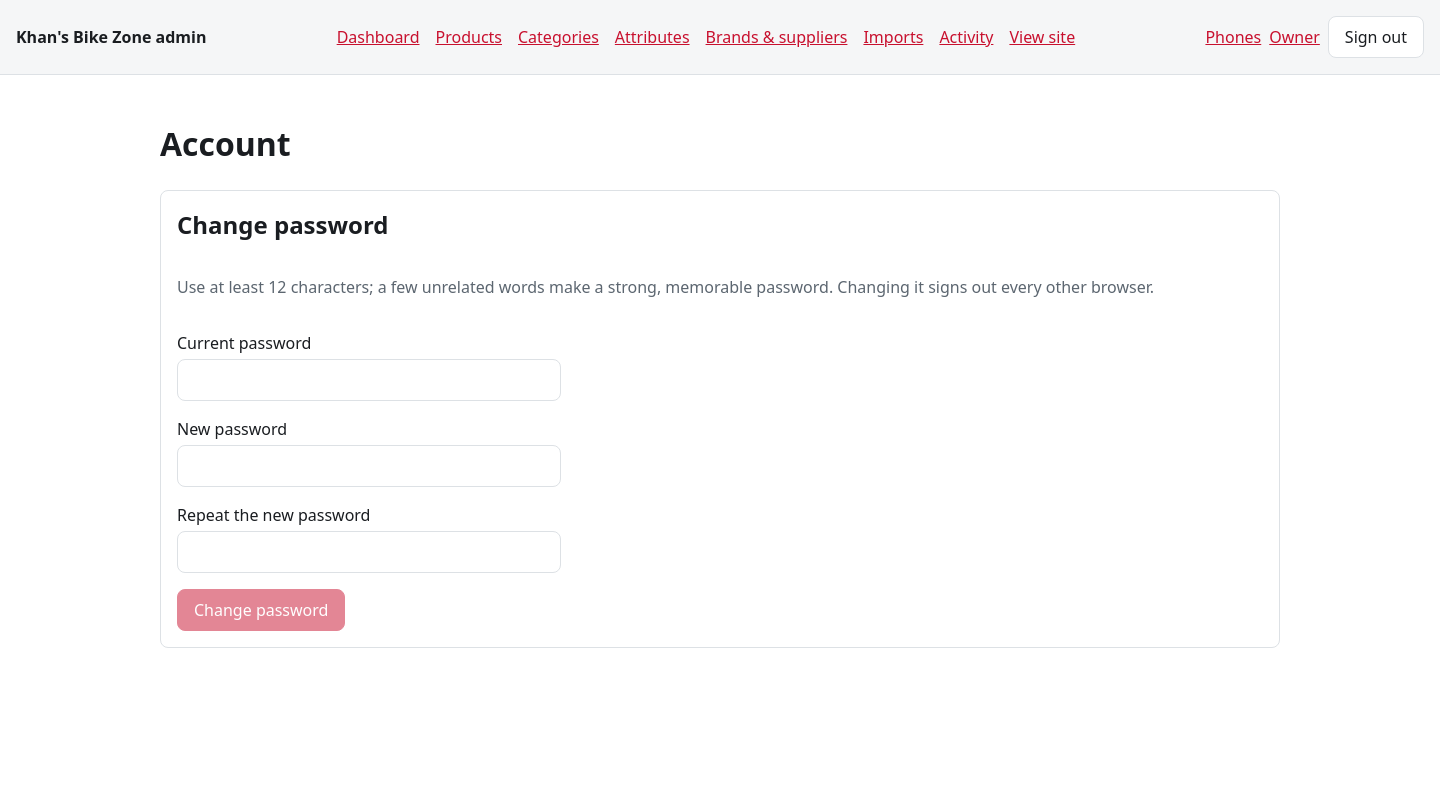
Test: account › shows the server's verdict on the current password
Type "wrong password!" into the password field labelled "Current password". click: (369, 380)
box: 177,359 -> 561,401
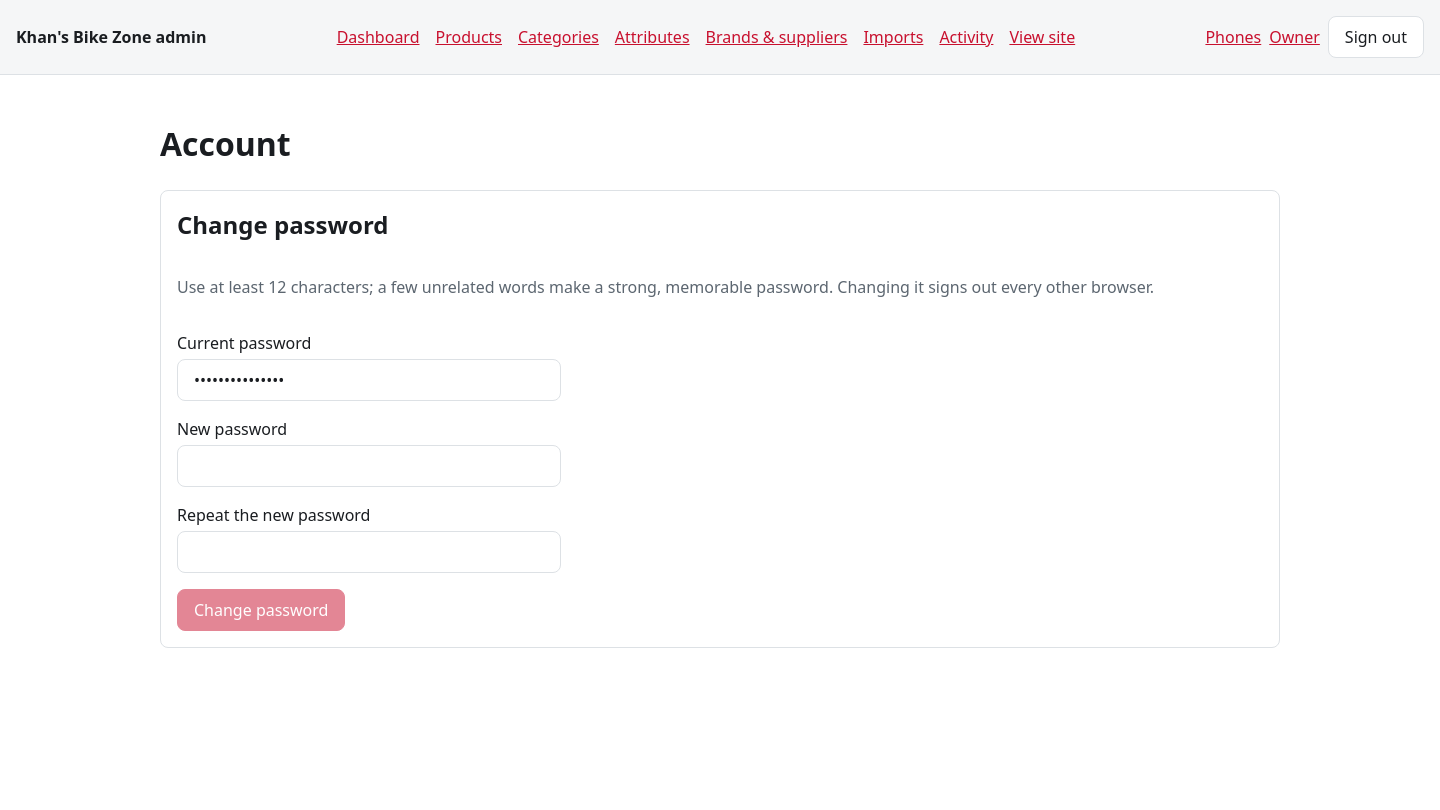
Type "correct horse battery" into the password field labelled "New password". click: (369, 466)
box: 177,445 -> 561,487
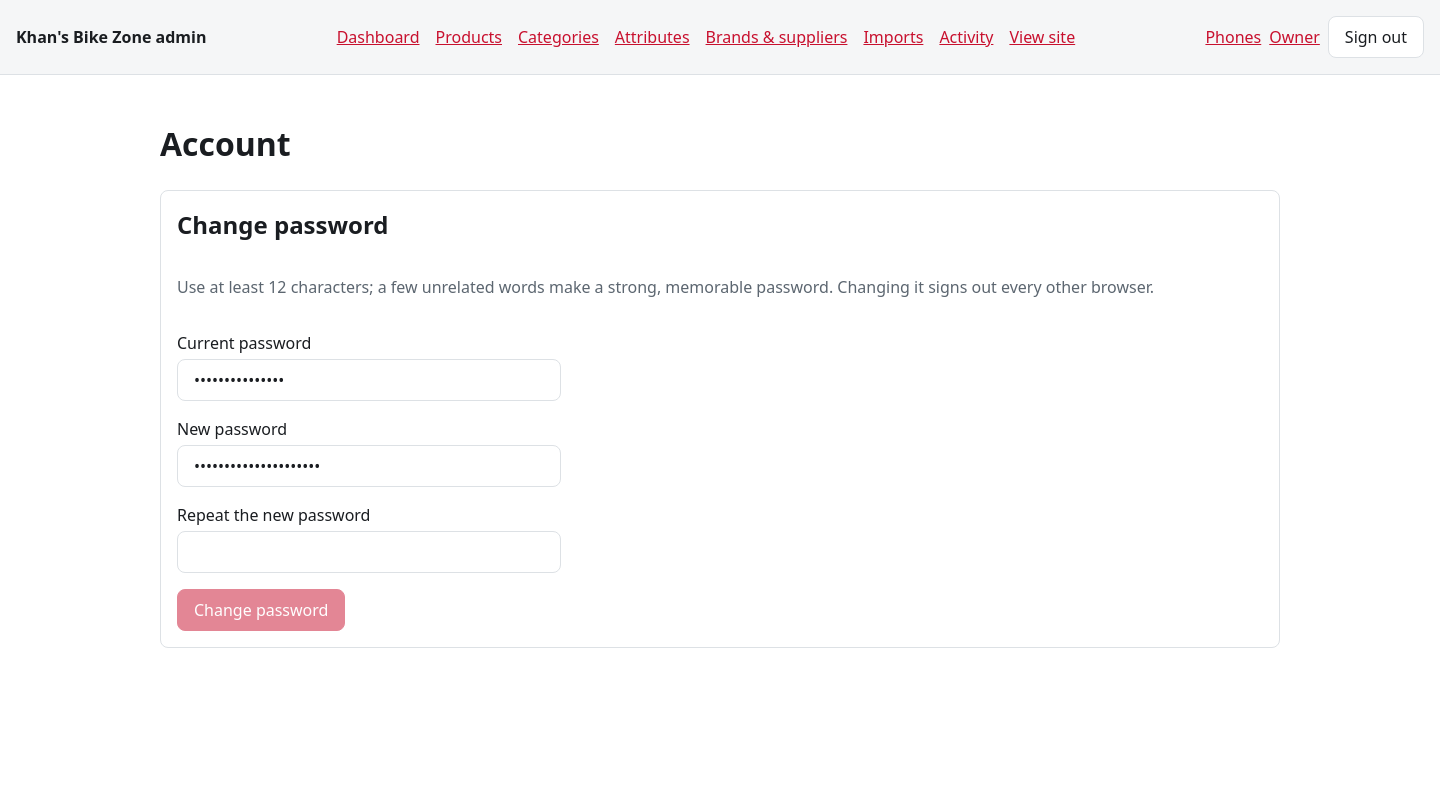
Type "correct horse battery" into the password field labelled "Repeat the new password". click: (369, 552)
box: 177,531 -> 561,573
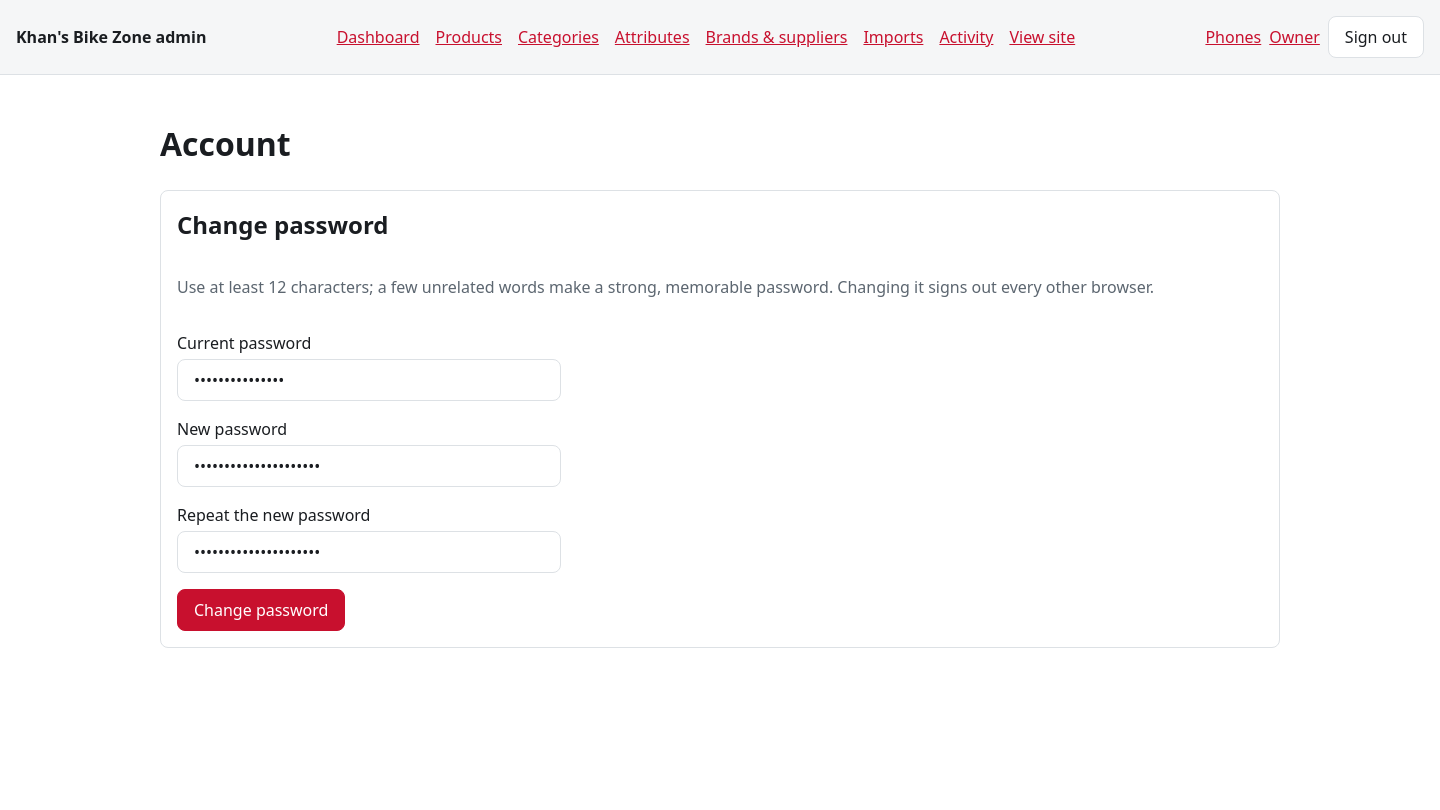
Click the button "Change password". click: (261, 610)
box: 177,589 -> 345,631
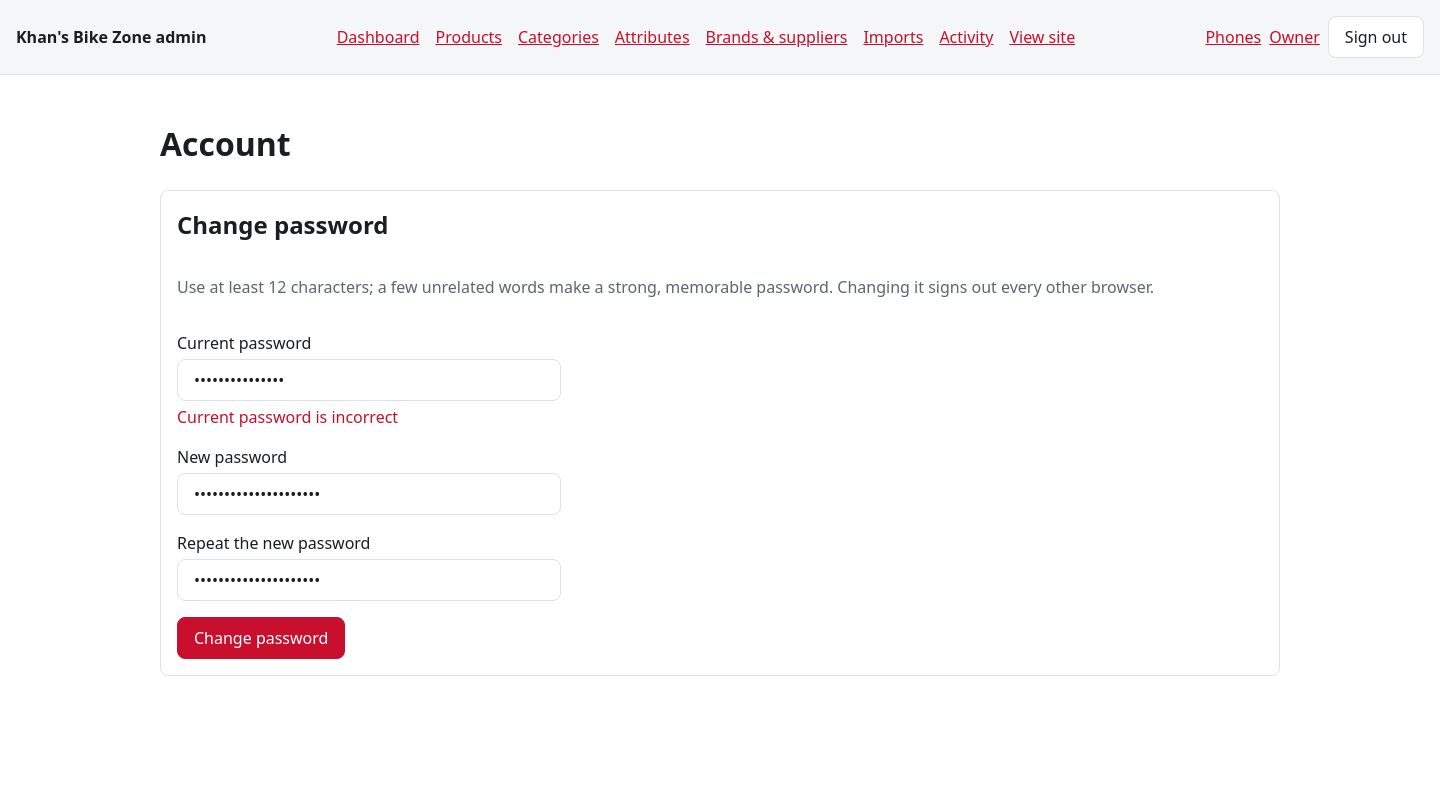
Now the text "Current password is incorrect" is shown, box 177,406 -> 398,428
